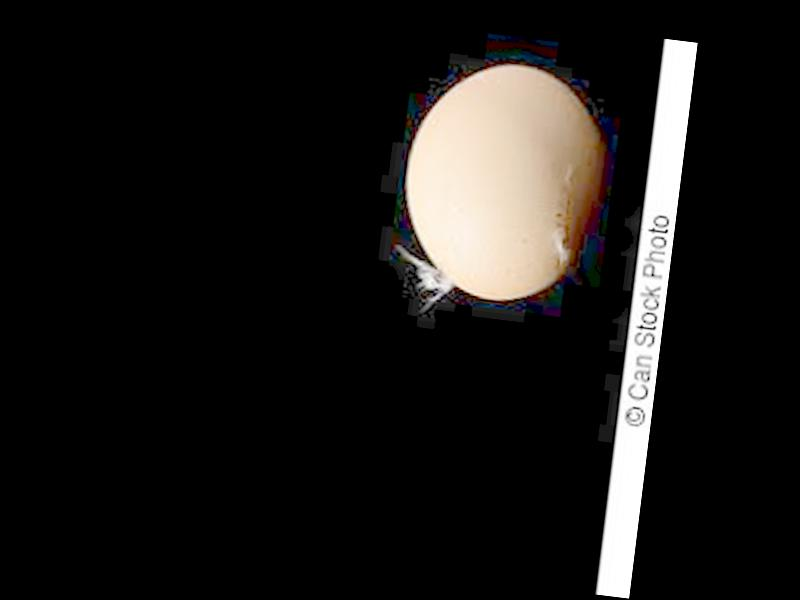Eggs: (395, 53, 616, 310)
